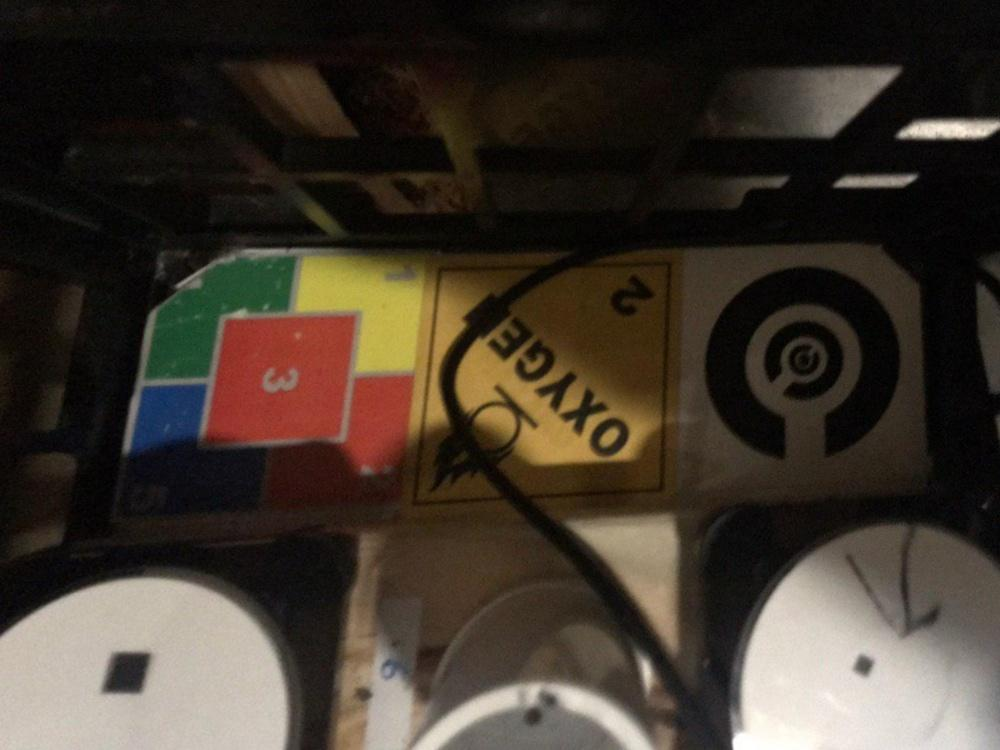oxidizer: (403, 238, 677, 531)
